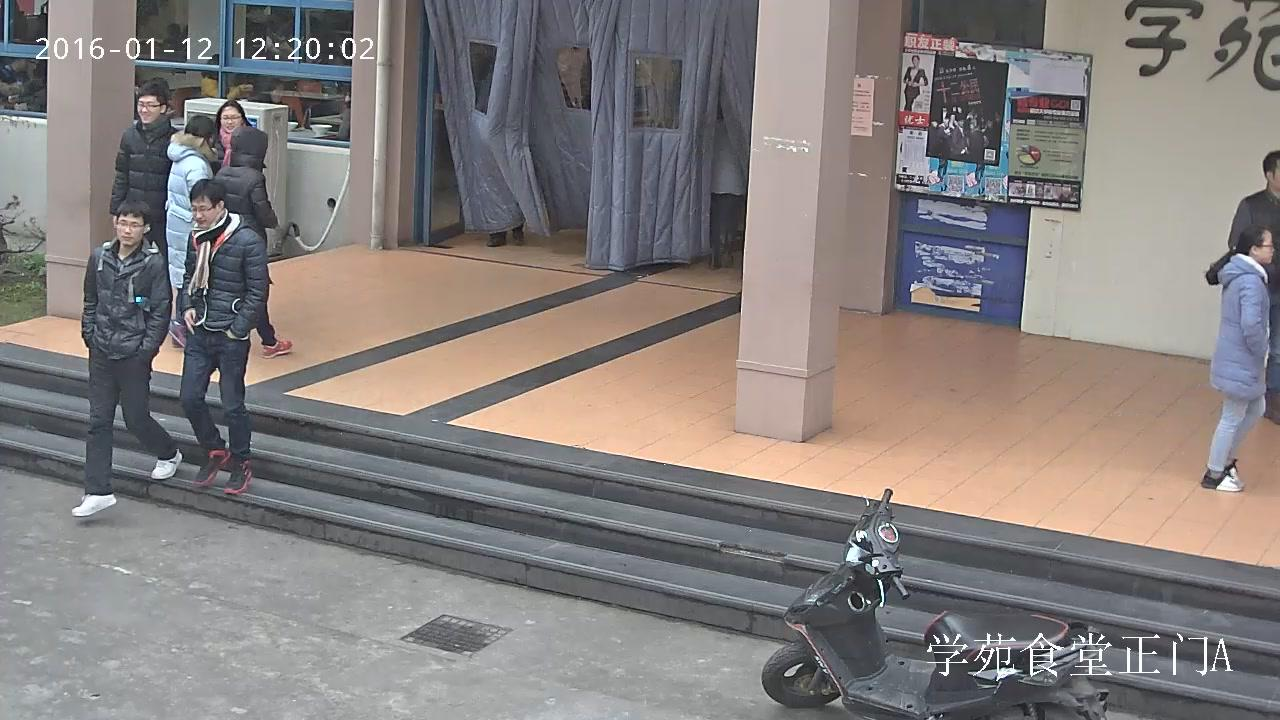person: (72, 199, 183, 517), (168, 125, 292, 358), (179, 177, 268, 496), (1201, 225, 1274, 492), (1230, 149, 1280, 424), (164, 115, 218, 347), (109, 83, 179, 247), (708, 114, 747, 269), (211, 100, 259, 174), (202, 53, 252, 98), (0, 56, 35, 105), (903, 54, 929, 111)
